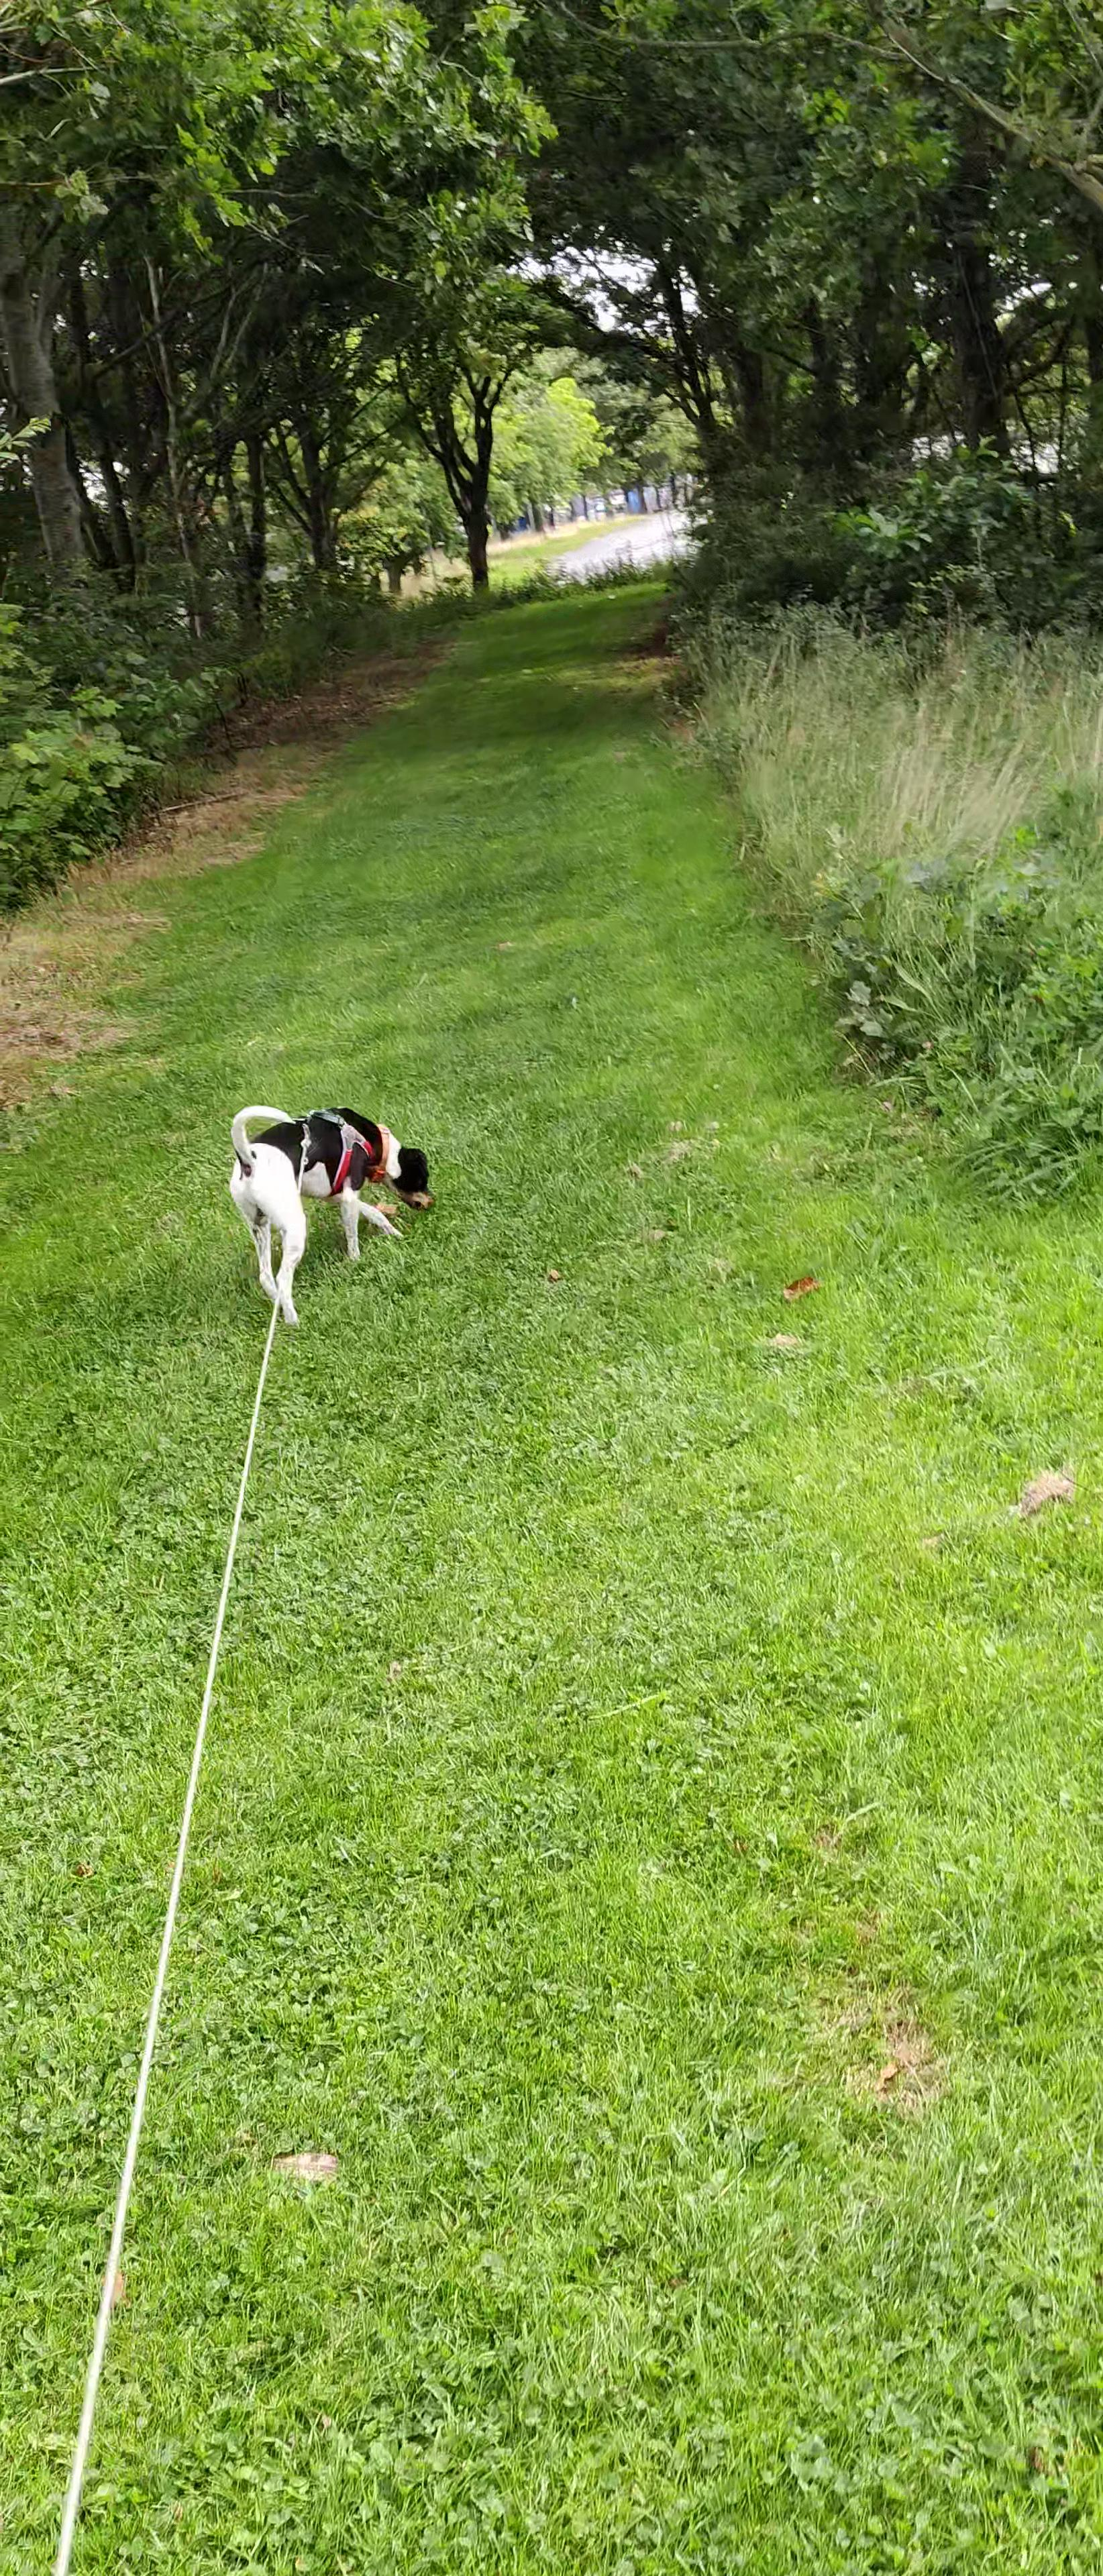Dog: (222, 1097, 436, 1326)
